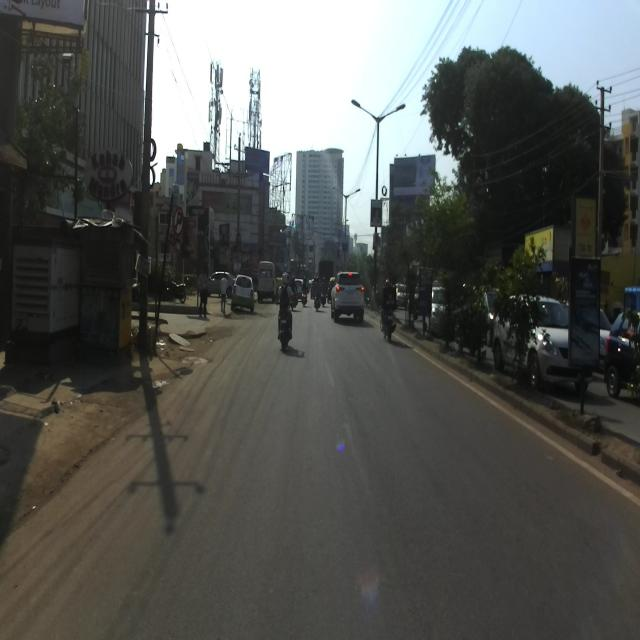Car_Maruti-Suzuki: (493, 297, 588, 390)
Car_Toyota: (330, 270, 365, 324)
motorcycle_Honda: (378, 297, 397, 344)
motorcycle_Yamaha: (276, 294, 296, 352)
